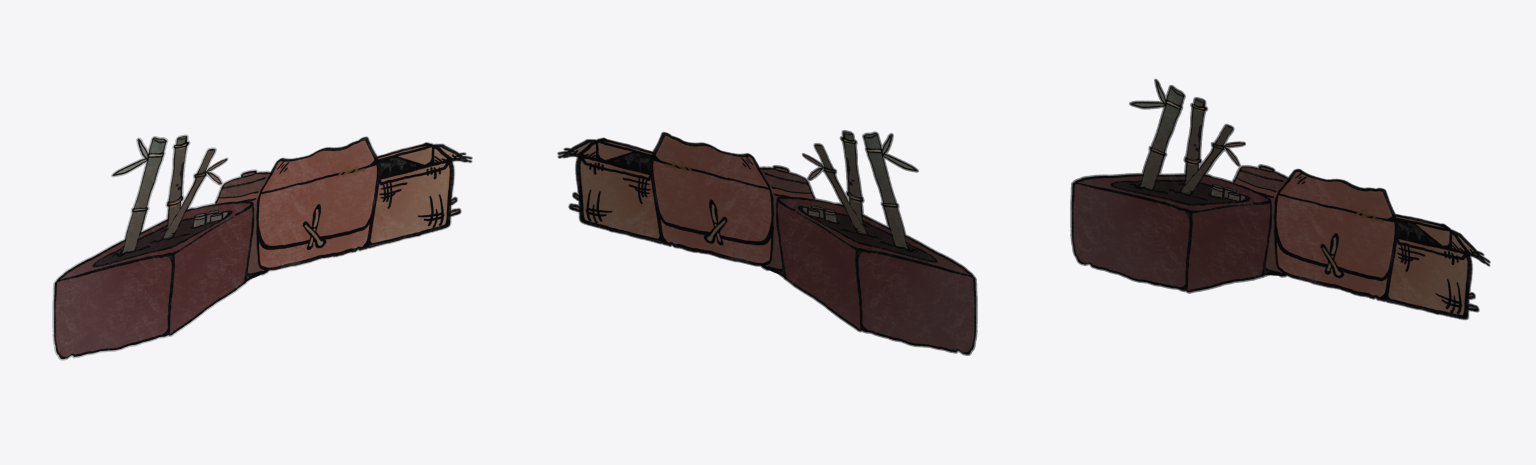
The picture shows the model from 3 angles, left to right: view 1: azimuth 30°, elevation 25°; view 2: azimuth 150°, elevation 25°; view 3: azimuth 330°, elevation 25°; orthographic projection.
Parts seen in each view (by area): view 1: 立方體; view 2: 立方體; view 3: 立方體.
Part boxes in pixels (bbox=[...]): 立方體: bbox=[52, 134, 472, 360]; 立方體: bbox=[557, 130, 977, 355]; 立方體: bbox=[1070, 78, 1490, 320].
Size of the model in its own units: 1.81 by 1.14 by 0.0408.
1 material, 1 textured.
